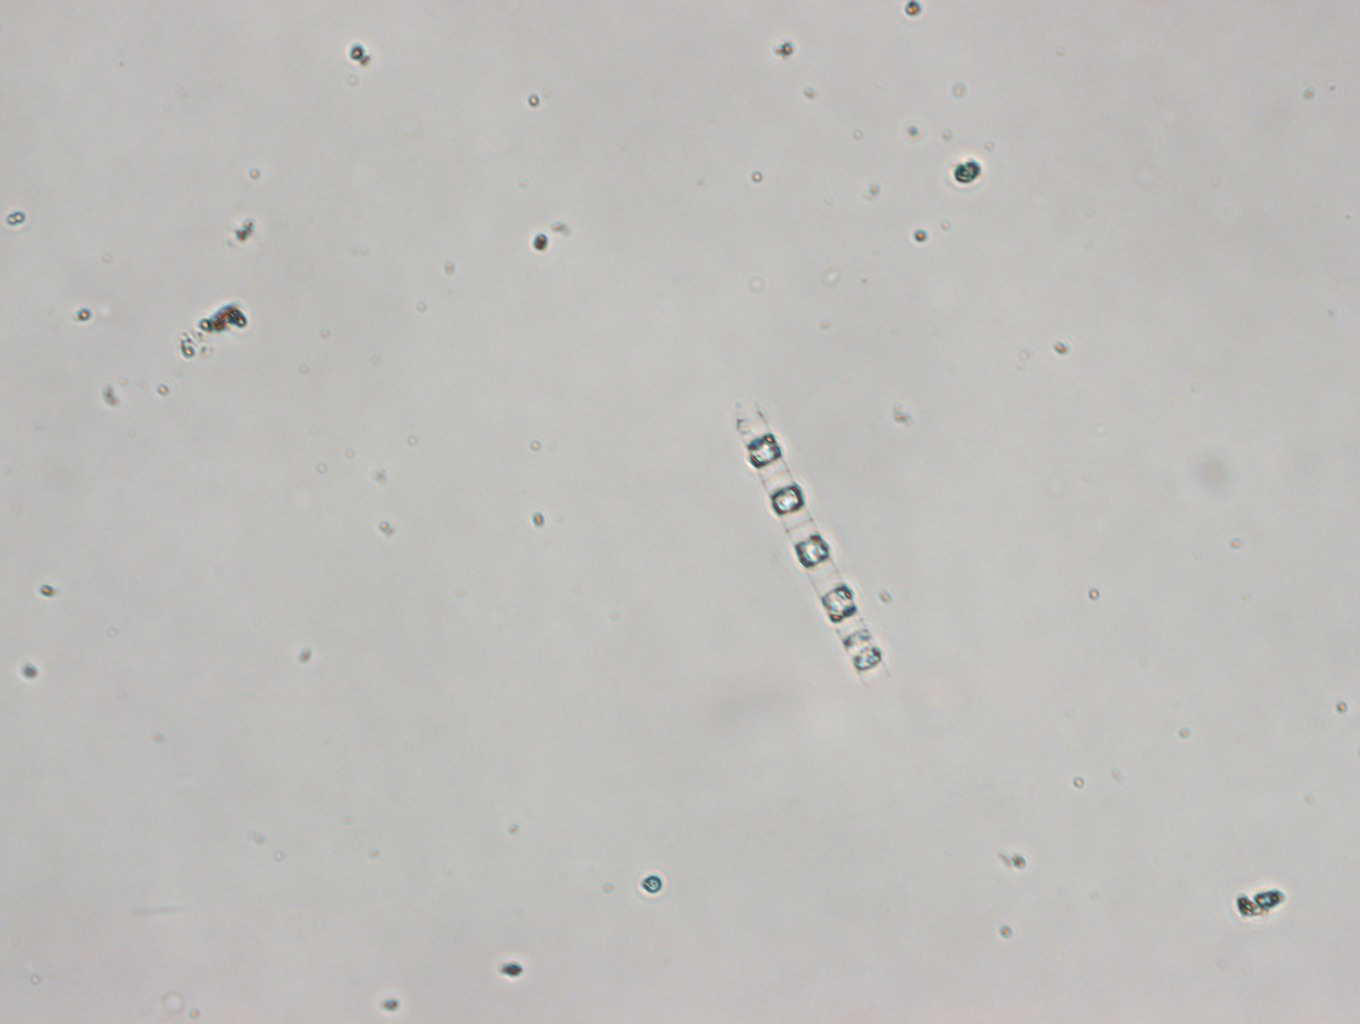skeletonema: (730, 396, 890, 691)
